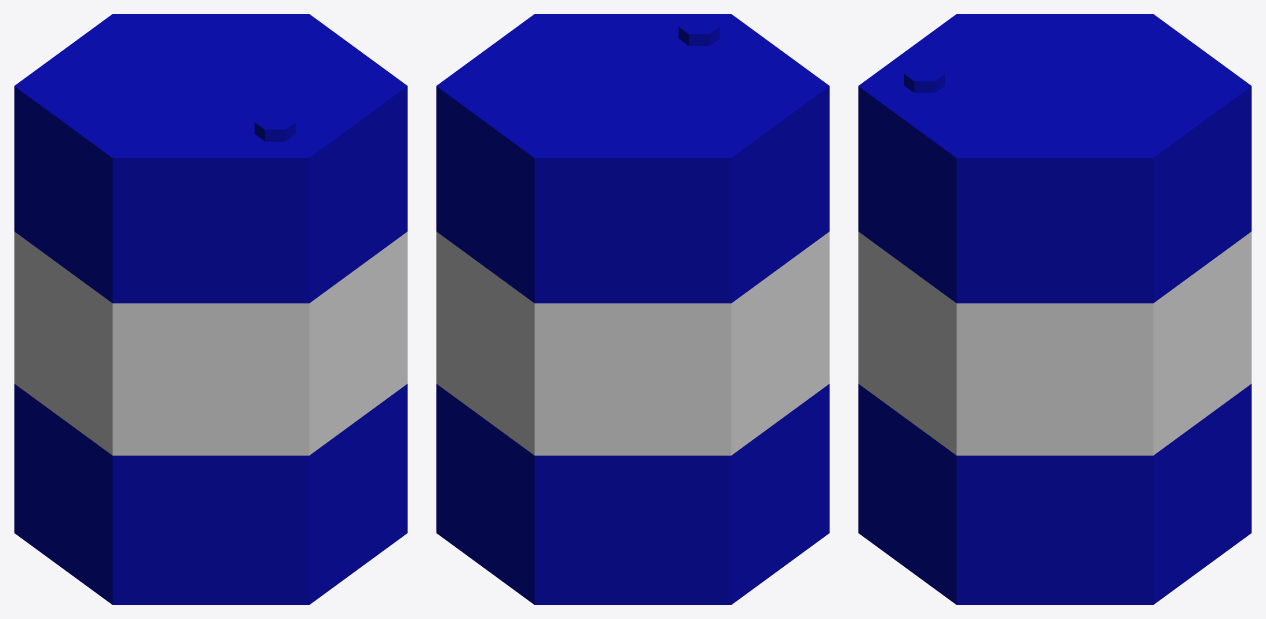
Rendered from Barril.fbx.
3 views of the same model, side by side, from view 1: azimuth 30°, elevation 25°; view 2: azimuth 150°, elevation 25°; view 3: azimuth 270°, elevation 25° (orthographic).
Visible parts, largest first — view 1: Cylinder, Cylinder.001; view 2: Cylinder, Cylinder.001; view 3: Cylinder, Cylinder.001.
Boxes of the visible parts, left/top/right/bottom form: Cylinder: left=14, top=14, right=407, bottom=604; Cylinder.001: left=254, top=114, right=295, bottom=141; Cylinder: left=436, top=14, right=829, bottom=604; Cylinder.001: left=678, top=19, right=719, bottom=45; Cylinder: left=858, top=14, right=1251, bottom=604; Cylinder.001: left=904, top=66, right=944, bottom=92.
Size of the model in its own units: 173 by 257 by 200.
